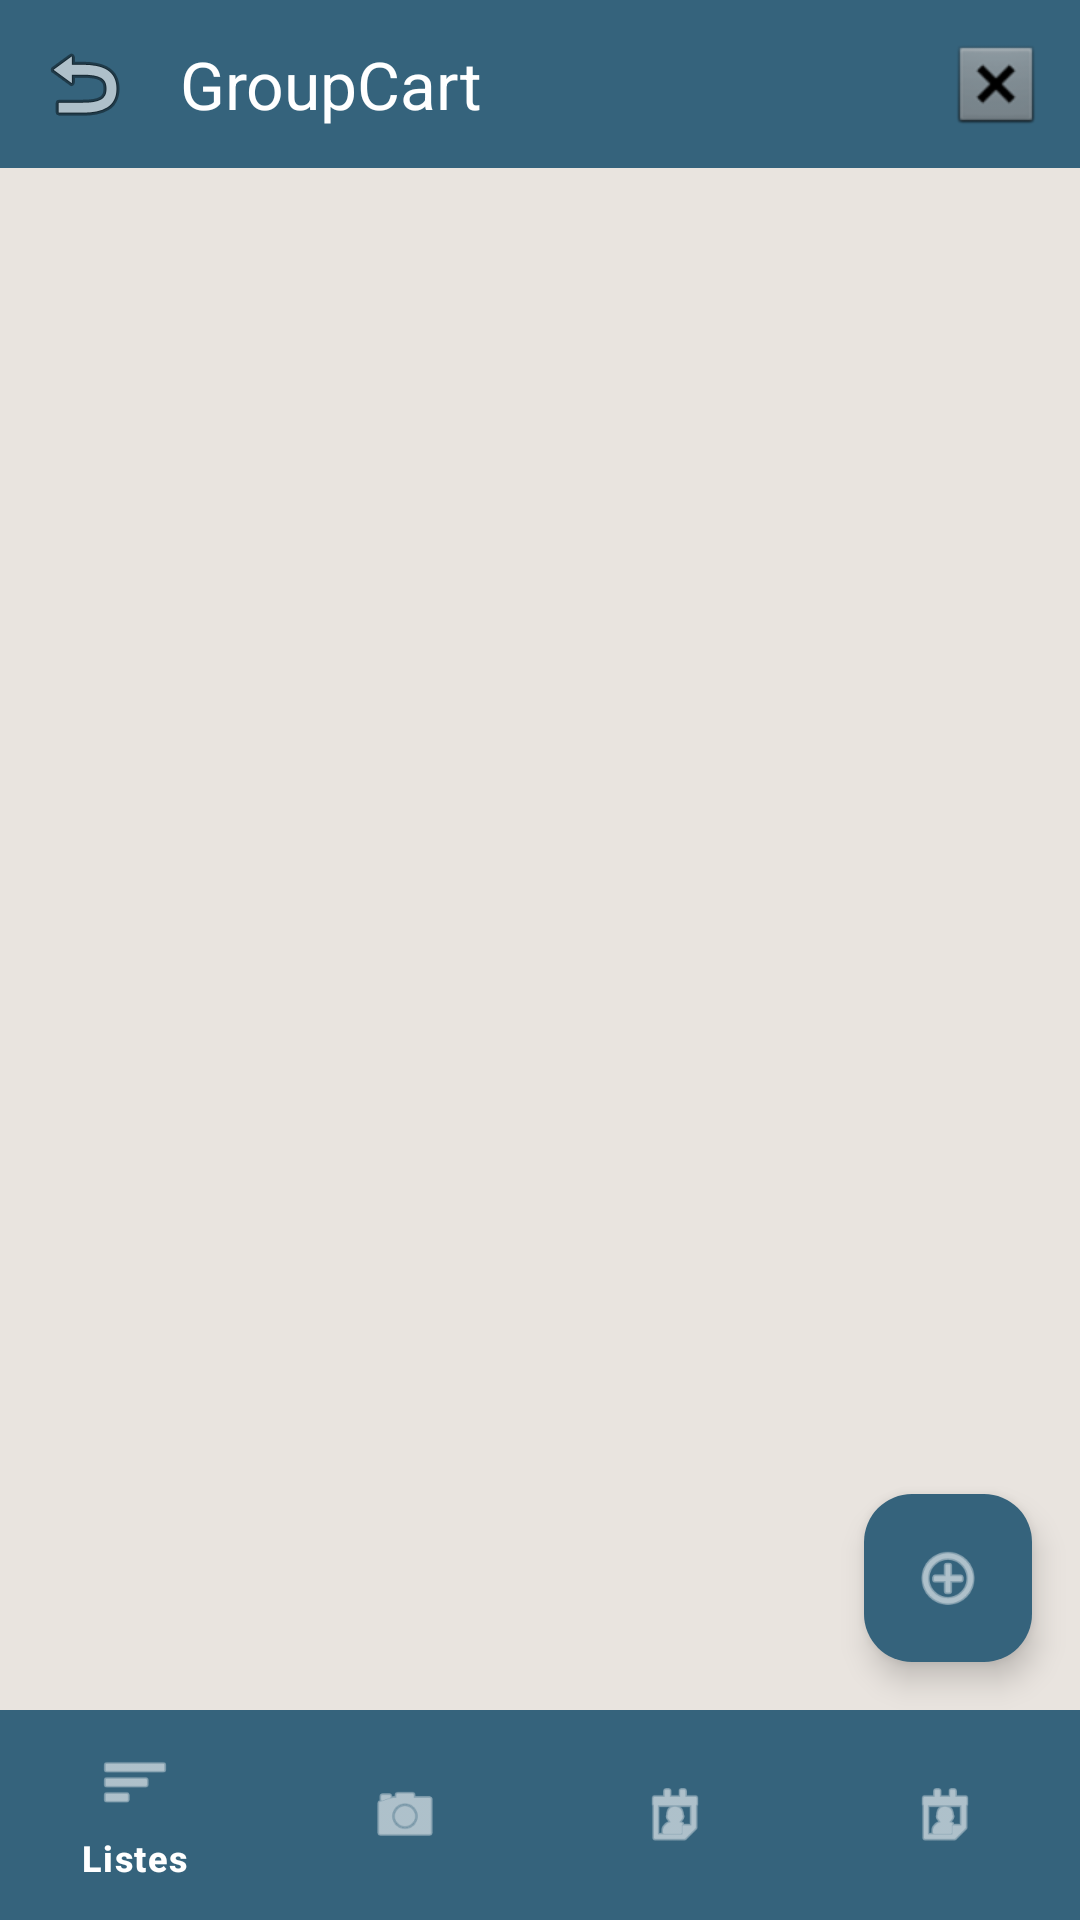

Screen size 1080w x 1920h. Icon name, then its box in pixels as bbox(x1, y1, x2, y2):
add: bbox(864, 1494, 1032, 1662)
